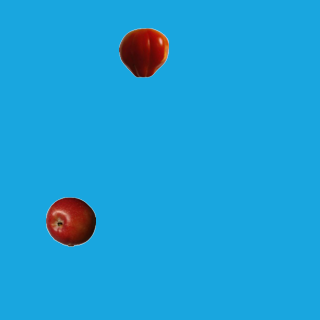Apple Braeburn: (45, 196, 95, 246)
Tomato 1: (118, 27, 168, 77)
